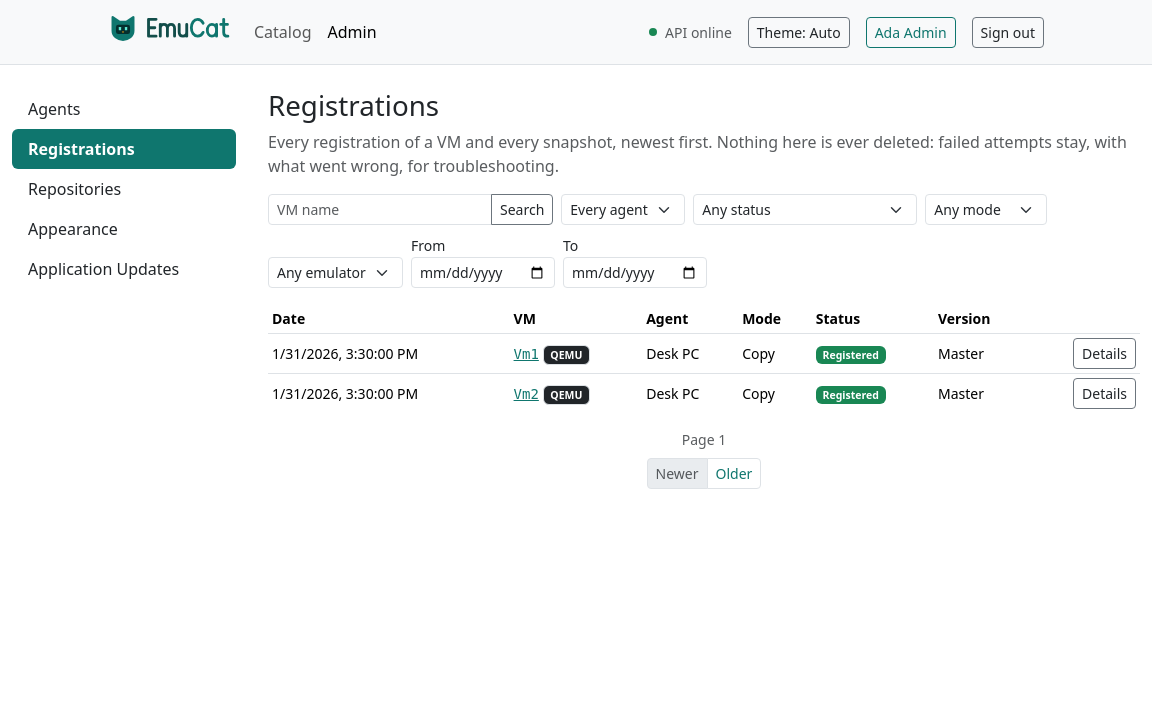
Test: the registration history page › shows one page at a time, from the server, and pages with its cursors
Expected: the link "Vm1" is shown, [514,346,539,362]
Expected: the text "Page 1" is shown, [682,430,726,449]
Click the button "Older" at [734, 474], box [706,458,761,489]
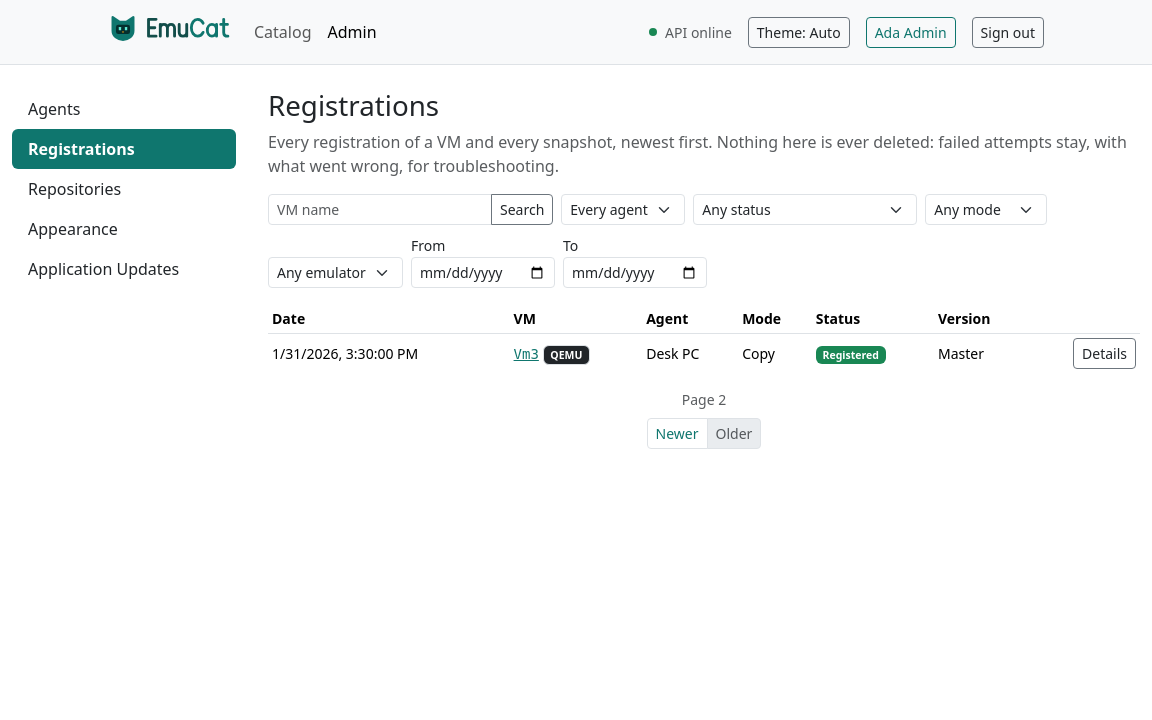
Result: the link "Vm3" is shown at [514,346,539,362]
Result: the link "Vm1" is gone
Result: the button "Older" is disabled at [706,418,761,449]
Click the button "Newer" at [677, 434], box [647,418,708,449]
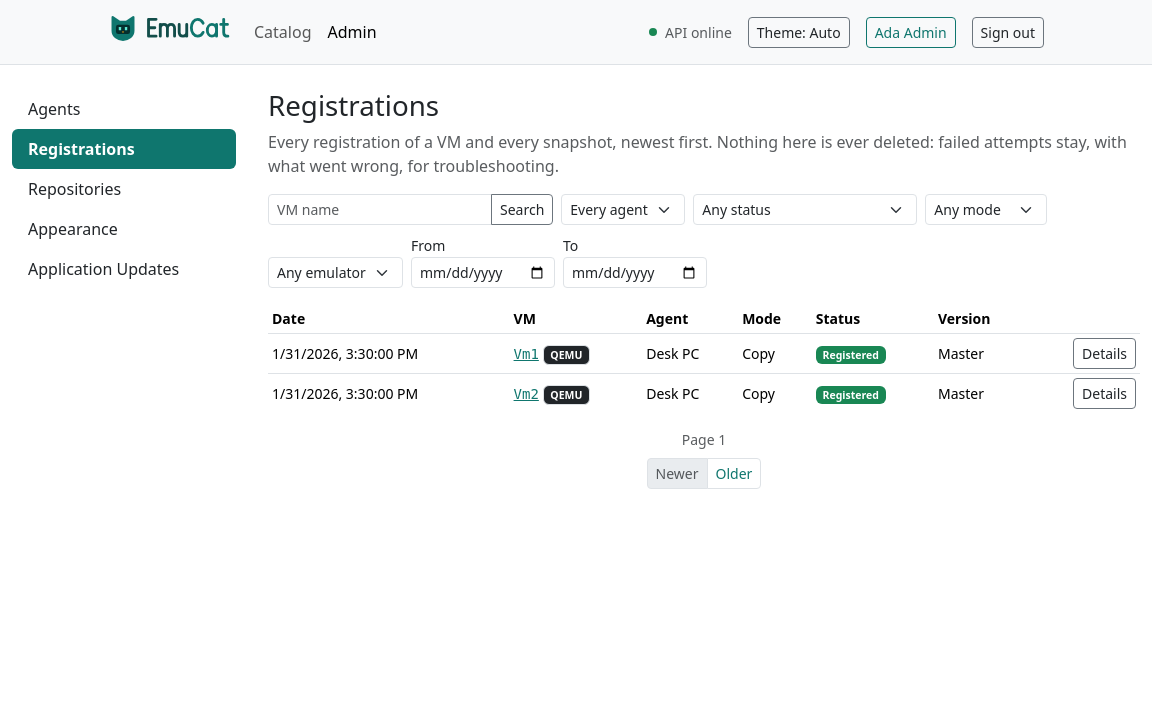
Result: the link "Vm1" is shown at [514,346,539,362]
